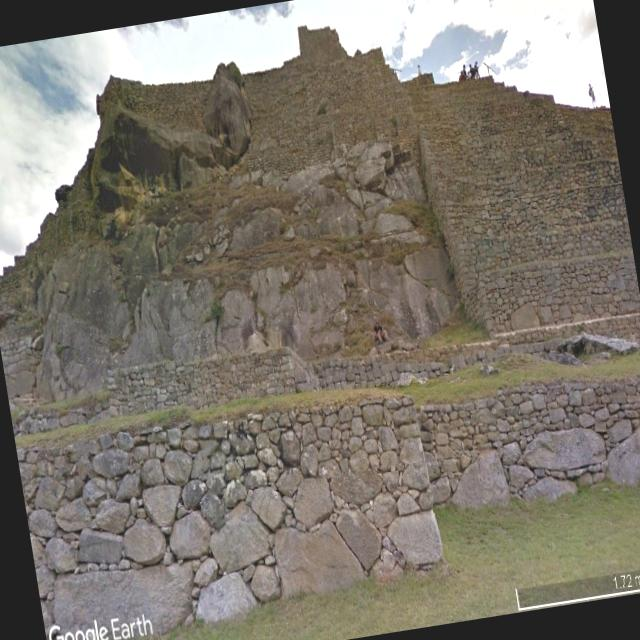objects-ruins-artifacts: (72, 49, 421, 334), (78, 417, 370, 616)
